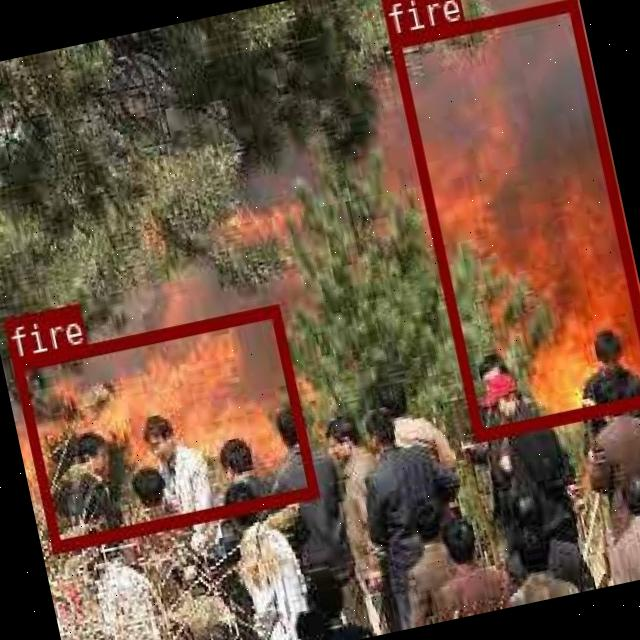fire: (386, 0, 640, 439), (11, 303, 316, 552)
